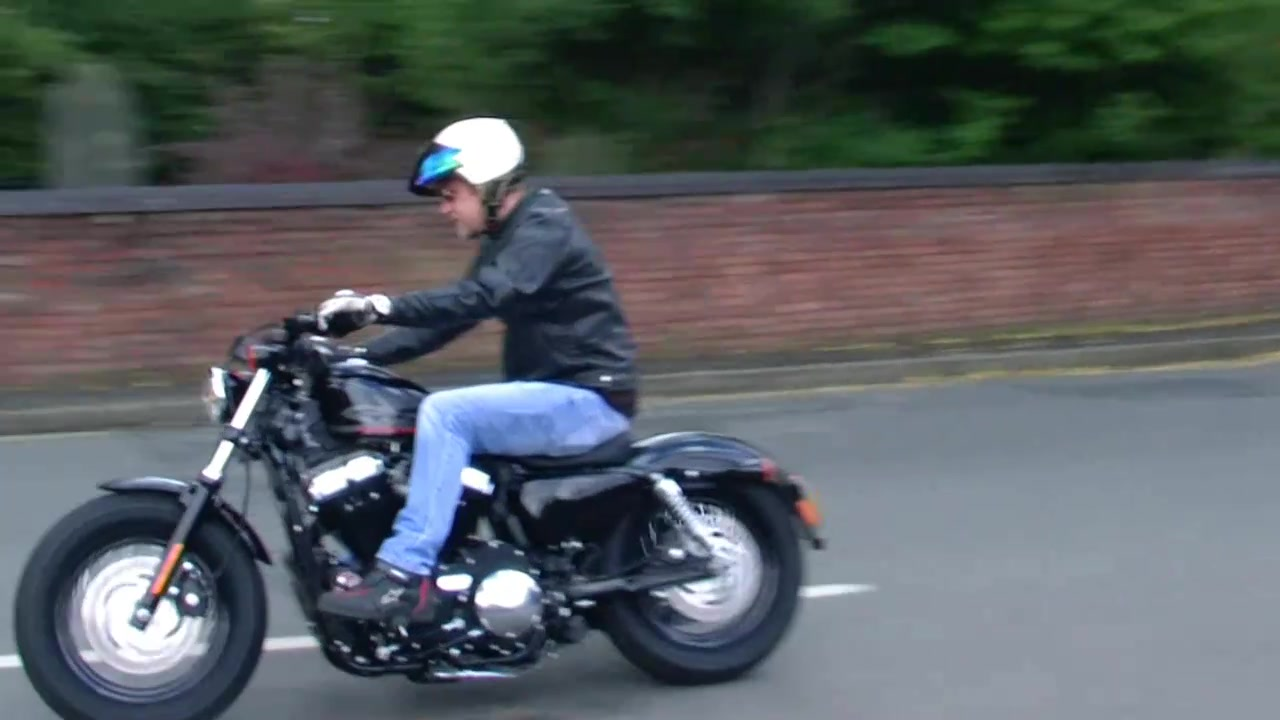motorbike: (13, 305, 831, 720)
